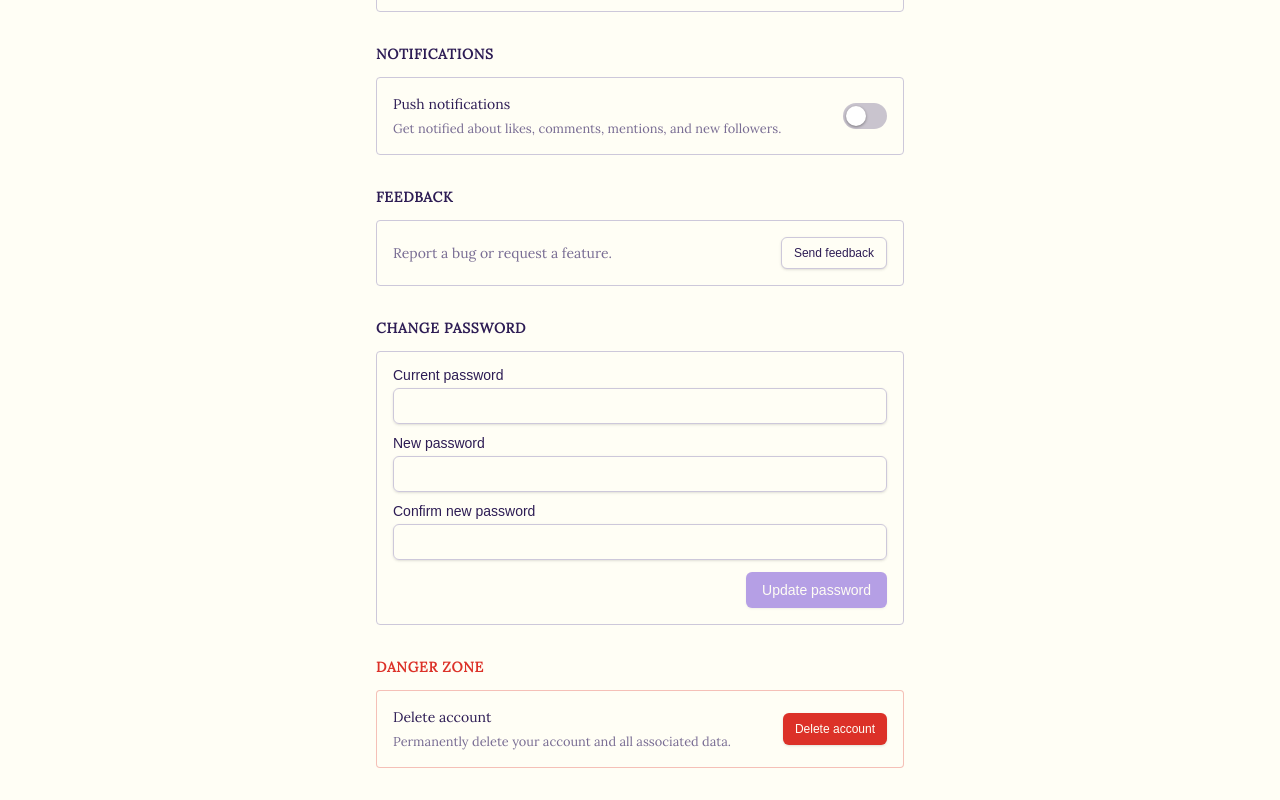
Test case: Settings — delete account › closes the dialog without deleting when Cancel is clicked
The width and height of the screenshot is (1280, 800).
(page scrolled)
Click the button "Delete account" at [835, 729], box x1=783 y1=713 x2=887 y2=745
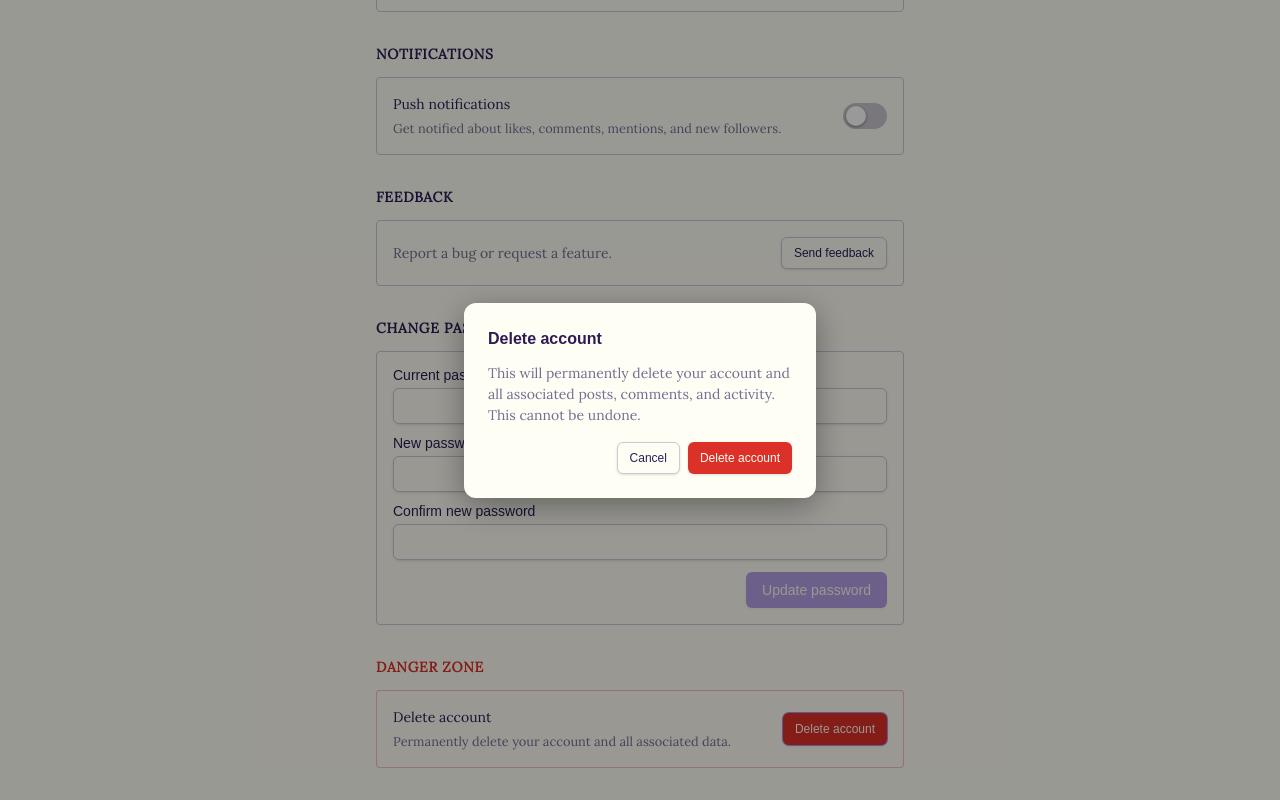
Click the button "Cancel" at [648, 458], box x1=617 y1=442 x2=680 y2=474
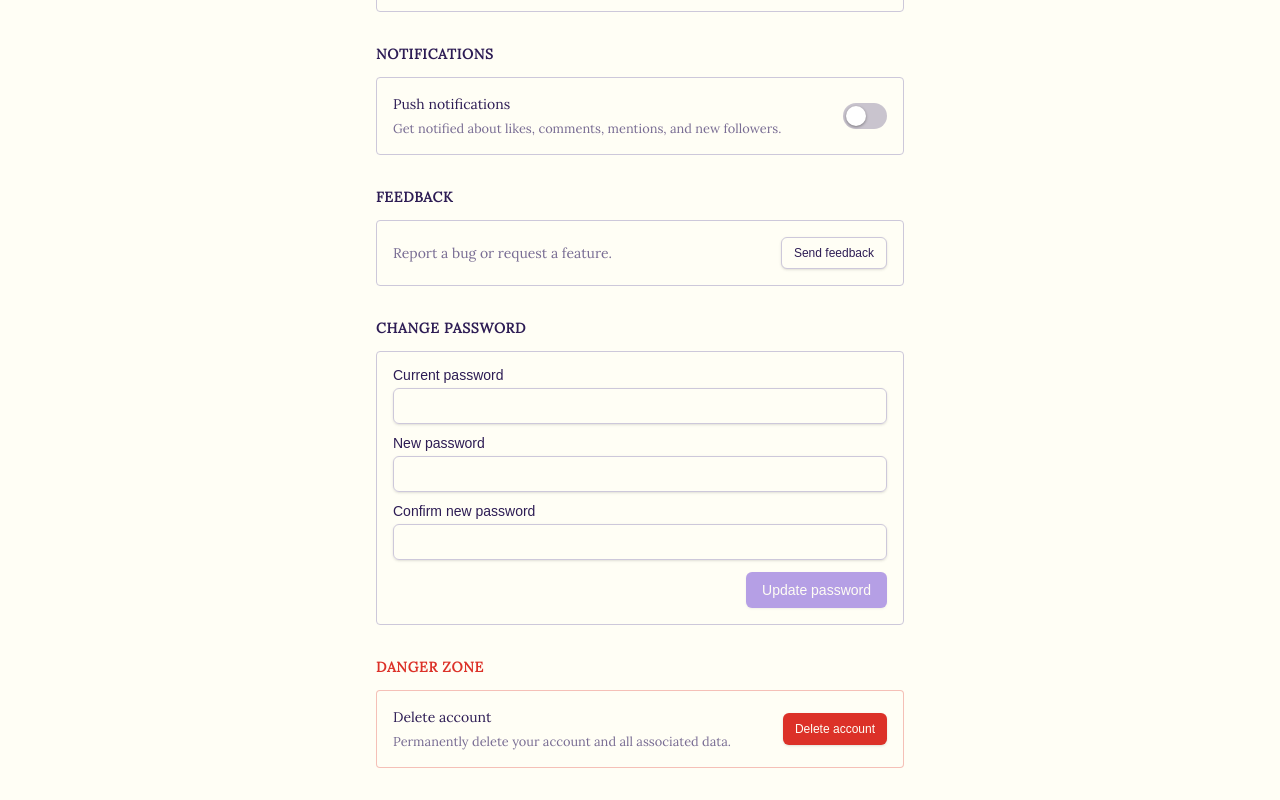
Result: the button "Cancel" is gone
